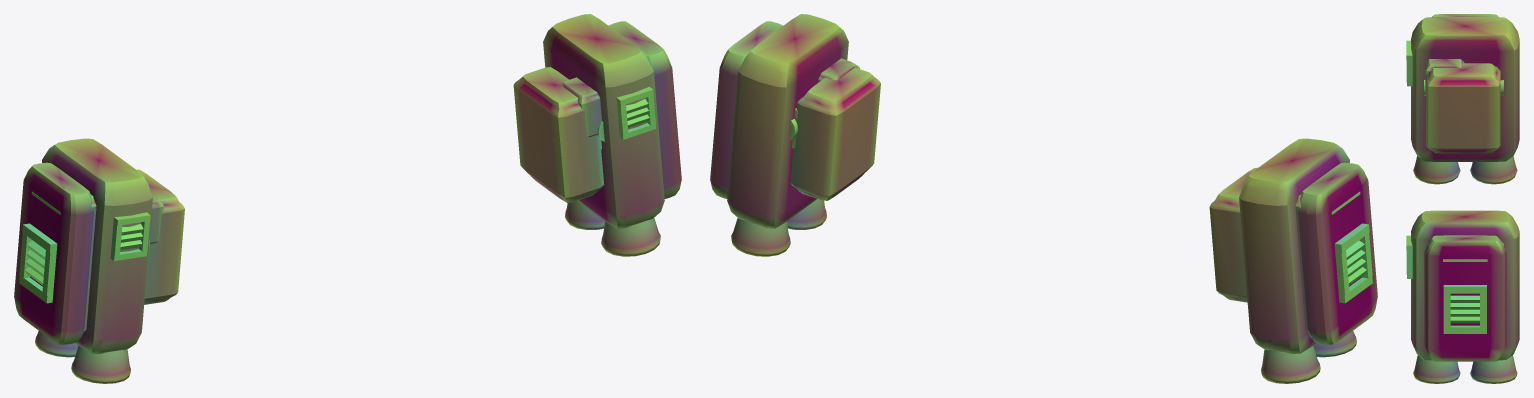
The model's file is llm_gen_leg_thrusters_033_648417.glb.
3 views of the same model, side by side, from view 1: azimuth 30°, elevation 25°; view 2: azimuth 150°, elevation 25°; view 3: azimuth 270°, elevation 25° (orthographic). The views are drawn at different scales.
Visible parts, largest first — view 1: greave_pylon_0_adapter_dark_r, greave_pylon_0_adapter_dark_l, lateral_binder_shroud_2_zeon_olive_coat_l, adapter_calf_clamp_r, lateral_binder_shroud_2_zeon_olive_coat_r, adapter_calf_clamp_l, ankle_vector_bell_b_7_vernier_bell_vernier_l, ankle_vector_bell_b_7_vernier_bell_vernier_r, adapter_sub_binder_side_vent_3_dark_l, adapter_sub_greave_intake_grille_5_dark_l, adapter_leg_knee_mount_dark_8_adapter_dark_r, adapter_sub_greave_intake_grille_5_dark_r (+3 smaller); view 2: greave_pylon_0_adapter_dark_r, greave_pylon_0_adapter_dark_l, lateral_binder_shroud_2_zeon_olive_coat_l, adapter_calf_clamp_r, lateral_binder_shroud_2_zeon_olive_coat_r, adapter_calf_clamp_l, ankle_vector_bell_a_6_vernier_bell_vernier_l, ankle_vector_bell_a_6_vernier_bell_vernier_r, adapter_sub_binder_side_vent_3_dark_l, ankle_vector_bell_b_7_vernier_bell_vernier_r, binder_side_vent_3_intake_gold_l, ankle_vector_bell_b_7_vernier_bell_vernier_l; view 3: greave_pylon_0_adapter_dark_l, lateral_binder_shroud_2_zeon_olive_coat_r, adapter_calf_clamp_l, greave_pylon_0_adapter_dark_r, adapter_sub_binder_side_vent_3_dark_r, ankle_vector_bell_a_6_vernier_bell_vernier_r, ankle_vector_bell_b_7_vernier_bell_vernier_r, ankle_vector_bell_a_6_vernier_bell_vernier_l, ankle_vector_bell_b_7_vernier_bell_vernier_l, binder_side_vent_3_intake_gold_r, adapter_leg_knee_mount_dark_8_adapter_dark_l, adapter_sub_greave_intake_grille_5_dark_l (+3 smaller).
Part boxes in pixels (box(x1,y1,x2,y2)): greave_pylon_0_adapter_dark_r: box(543, 14, 664, 228); greave_pylon_0_adapter_dark_l: box(42, 138, 152, 353); lateral_binder_shroud_2_zeon_olive_coat_l: box(14, 162, 93, 344); adapter_calf_clamp_r: box(513, 67, 603, 202); lateral_binder_shroud_2_zeon_olive_coat_r: box(608, 21, 681, 198); adapter_calf_clamp_l: box(136, 169, 184, 304); ankle_vector_bell_b_7_vernier_bell_vernier_l: box(71, 345, 130, 383); ankle_vector_bell_b_7_vernier_bell_vernier_r: box(601, 218, 660, 256); adapter_sub_binder_side_vent_3_dark_l: box(19, 223, 57, 303); adapter_sub_greave_intake_grille_5_dark_l: box(110, 212, 150, 260); adapter_leg_knee_mount_dark_8_adapter_dark_r: box(561, 77, 601, 136); adapter_sub_greave_intake_grille_5_dark_r: box(616, 86, 655, 139); greave_pylon_0_adapter_dark_r: box(727, 14, 848, 228); greave_pylon_0_adapter_dark_l: box(1239, 138, 1349, 353); lateral_binder_shroud_2_zeon_olive_coat_l: box(1298, 162, 1377, 344); adapter_calf_clamp_r: box(790, 67, 880, 200); lateral_binder_shroud_2_zeon_olive_coat_r: box(710, 21, 783, 198); adapter_calf_clamp_l: box(1209, 167, 1257, 302); ankle_vector_bell_a_6_vernier_bell_vernier_l: box(1261, 345, 1320, 383); ankle_vector_bell_a_6_vernier_bell_vernier_r: box(731, 218, 790, 256); adapter_sub_binder_side_vent_3_dark_l: box(1334, 223, 1372, 303); ankle_vector_bell_b_7_vernier_bell_vernier_r: box(787, 199, 826, 229); binder_side_vent_3_intake_gold_l: box(1346, 240, 1366, 285); ankle_vector_bell_b_7_vernier_bell_vernier_l: box(1313, 331, 1356, 357); greave_pylon_0_adapter_dark_l: box(1411, 17, 1519, 161); lateral_binder_shroud_2_zeon_olive_coat_r: box(1424, 235, 1506, 361); adapter_calf_clamp_l: box(1426, 63, 1500, 153); greave_pylon_0_adapter_dark_r: box(1411, 210, 1519, 360); adapter_sub_binder_side_vent_3_dark_r: box(1443, 285, 1486, 333); ankle_vector_bell_a_6_vernier_bell_vernier_r: box(1470, 355, 1517, 383); ankle_vector_bell_b_7_vernier_bell_vernier_r: box(1413, 355, 1460, 383); ankle_vector_bell_a_6_vernier_bell_vernier_l: box(1470, 156, 1517, 184); ankle_vector_bell_b_7_vernier_bell_vernier_l: box(1413, 156, 1460, 184); binder_side_vent_3_intake_gold_r: box(1450, 295, 1479, 323); adapter_leg_knee_mount_dark_8_adapter_dark_l: box(1425, 59, 1464, 94); adapter_sub_greave_intake_grille_5_dark_l: box(1406, 40, 1412, 86).
Size of the model in its own units: 84.2 by 25.43 by 16.74.
